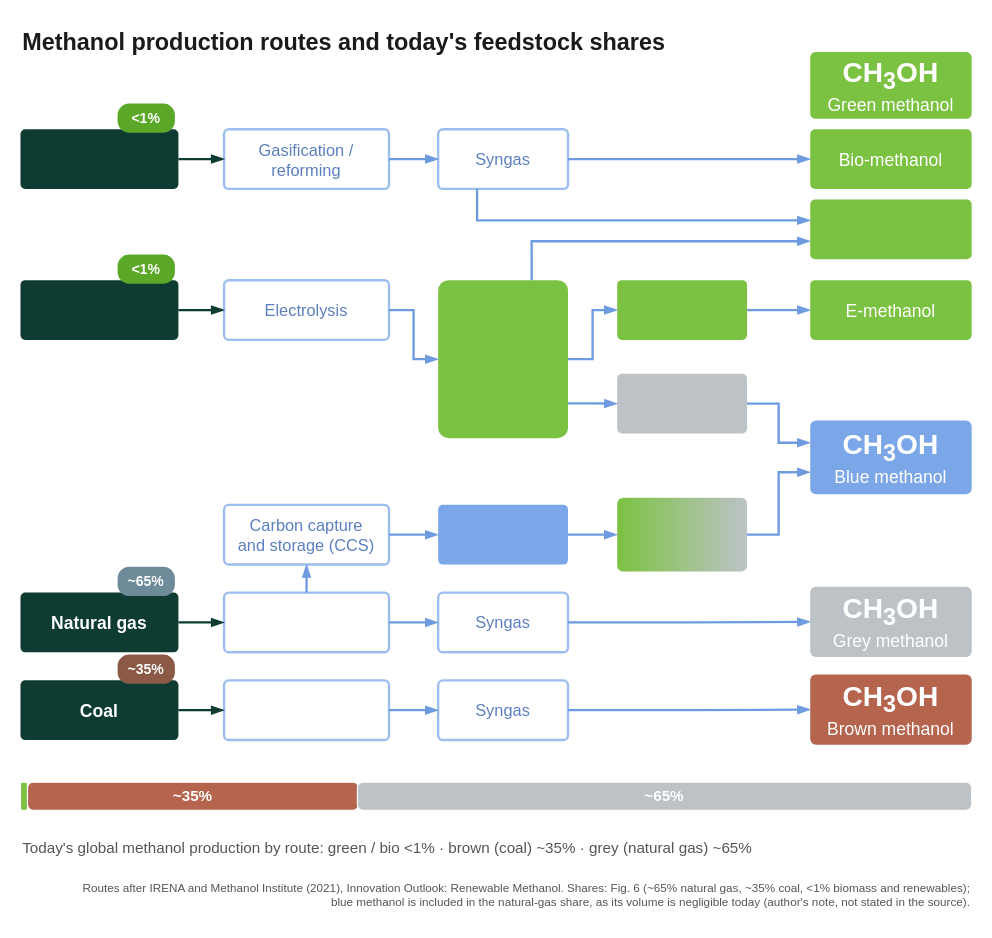
Some shapes in this 992 by 938 pixel diagram are drawn without their labels. Each missing label, with the box of its shape:
Bio-e-methanol: (810, 199, 971, 259)
Biomass: (20, 129, 178, 188)
CO 2 Non-renewable: (617, 373, 746, 433)
CO 2 Renewable: (617, 280, 746, 339)
Gasification: (222, 679, 390, 741)
H 2 Blue hydrogen: (438, 504, 567, 564)
H 2 Green hydrogen: (438, 280, 567, 438)
Reforming: (222, 591, 390, 653)
Renewable CO 2 Non-renewable: (617, 497, 746, 571)
Renewable electricity: (20, 280, 178, 339)
